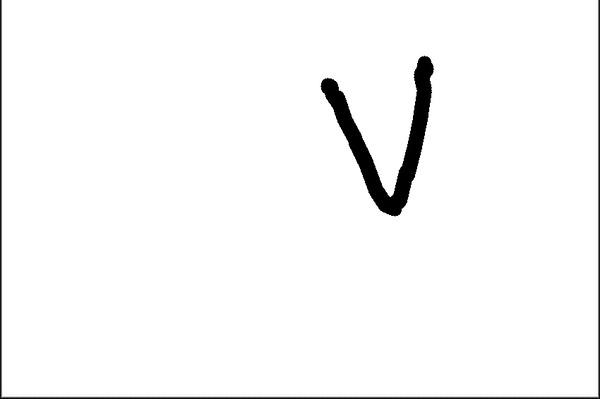V: (312, 58, 450, 217)
